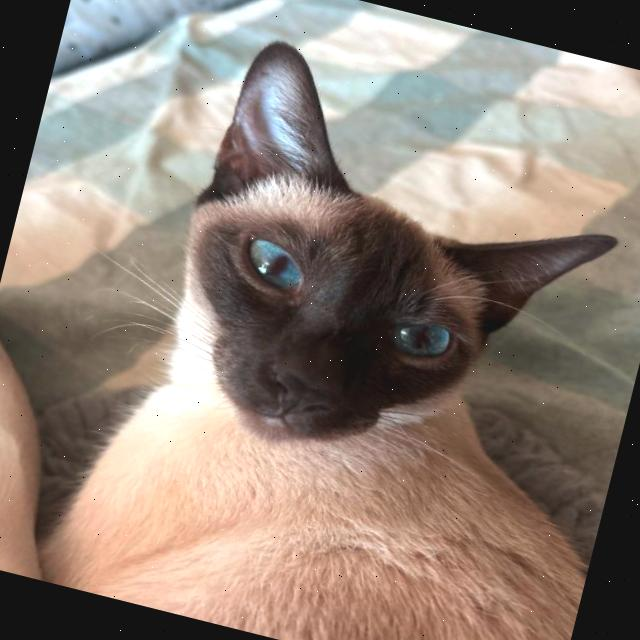siamese_cat: (101, 9, 640, 565)
